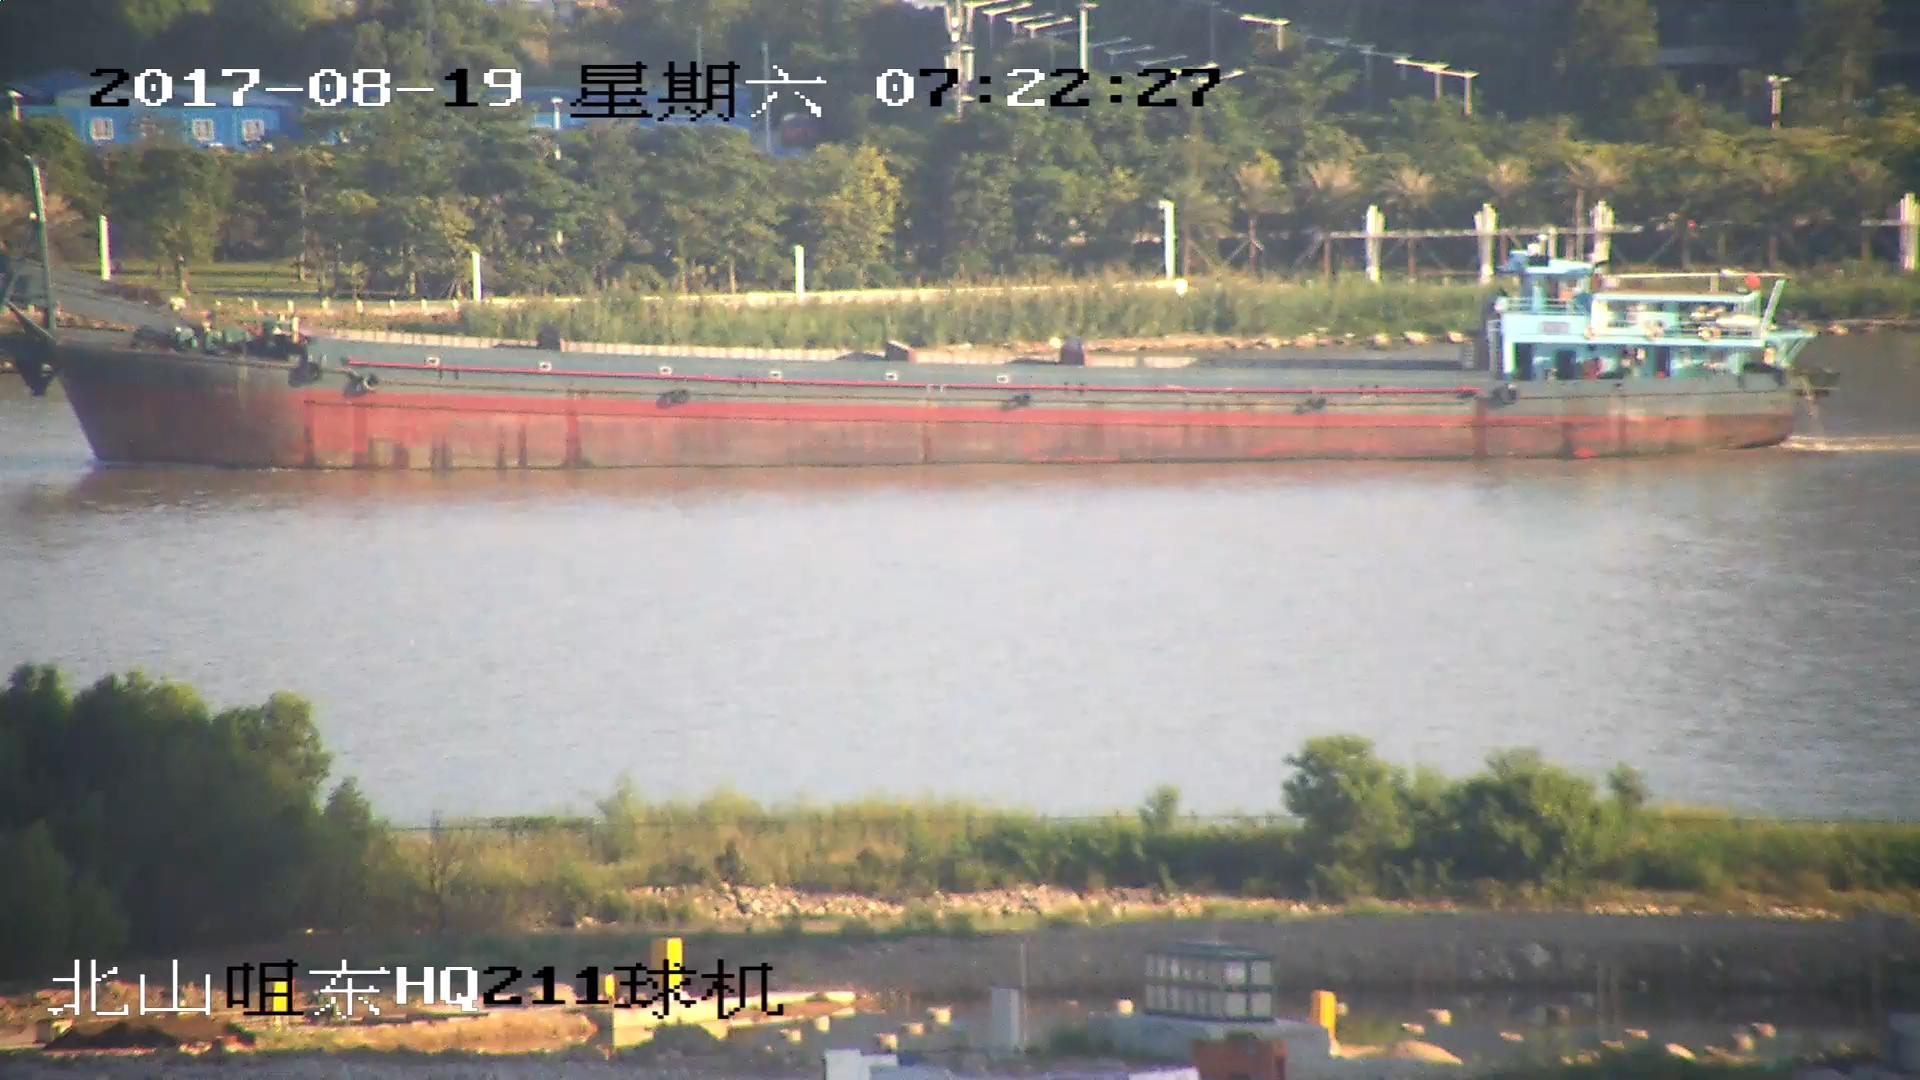Ship: (3, 169, 1840, 472)
